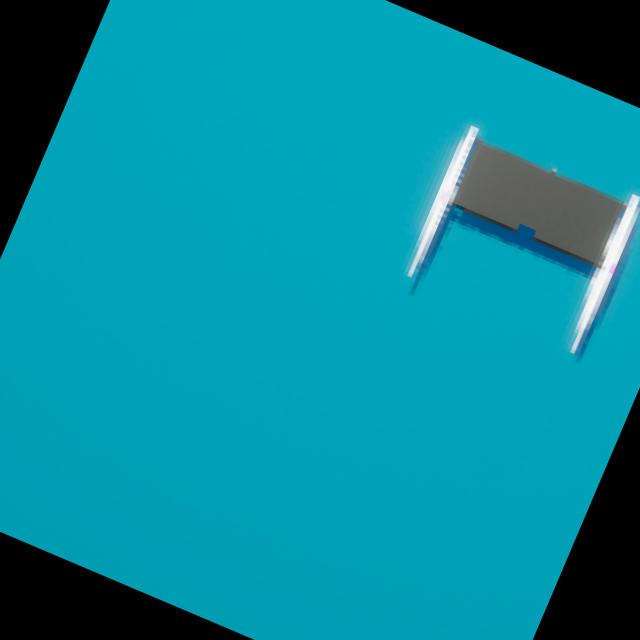boat: (381, 106, 640, 369)
drone: (450, 142, 618, 262)
